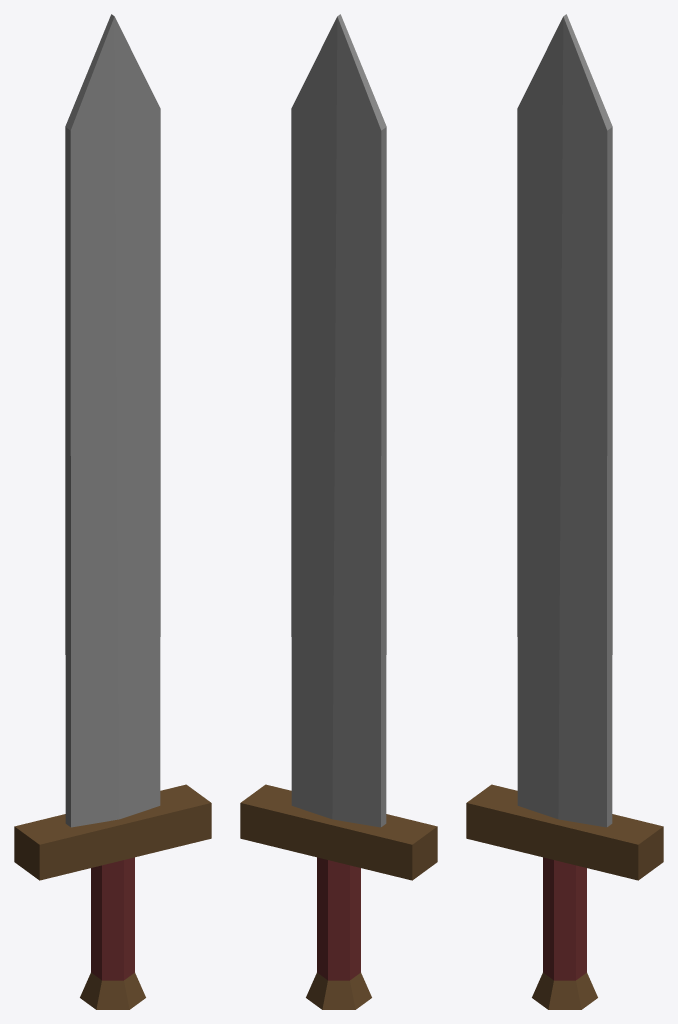
File: sword.fbx
The picture shows the model from 3 angles, left to right: view 1: azimuth 30°, elevation 25°; view 2: azimuth 150°, elevation 25°; view 3: azimuth 330°, elevation 25°; orthographic projection.
Parts seen in each view (by area): view 1: Cube; view 2: Cube; view 3: Cube.
Boxes of the visible parts, x1,y1,x2,y2 form: Cube: (14,14,211,1009); Cube: (240,14,437,1009); Cube: (466,14,663,1009).
Size of the model in its own units: 69.33 by 379 by 23.23.
